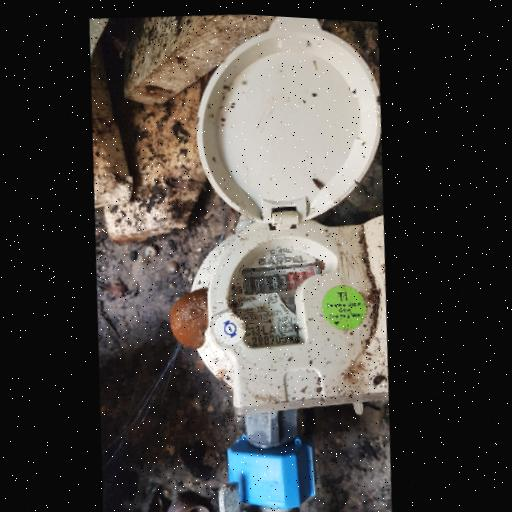0: (243, 276, 256, 296), (251, 274, 263, 295)
1: (296, 269, 306, 285)
3: (278, 272, 290, 292)
4: (287, 271, 300, 291)
5: (261, 273, 273, 294)
8: (269, 273, 281, 294)
border_water_meter_number: (240, 258, 324, 301)
